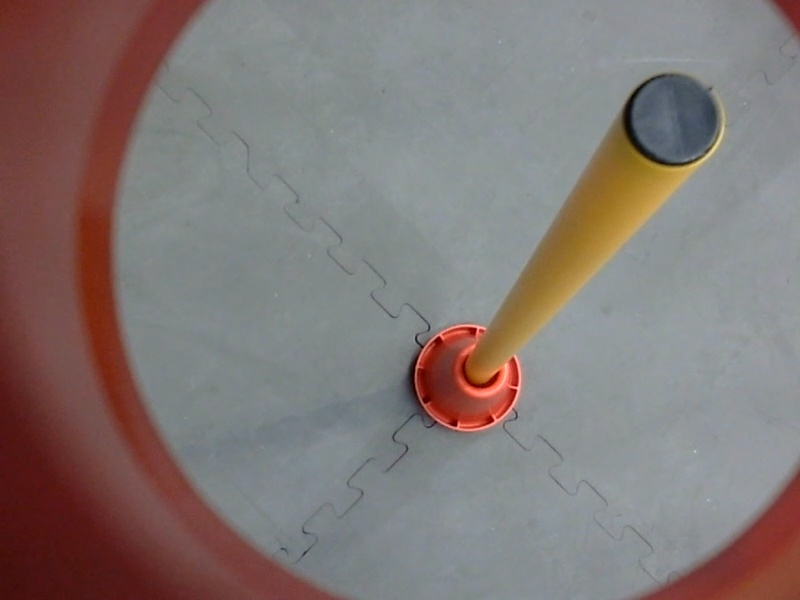tip: (617, 66, 733, 175)
